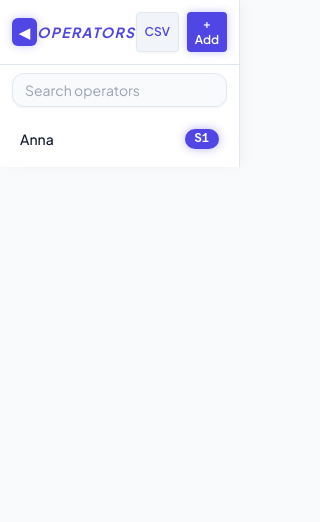
OperatorPanel › shows certification checkboxes in expanded view
Step 1. Click the text "Anna" → (37, 139), box [20,130,54,148]
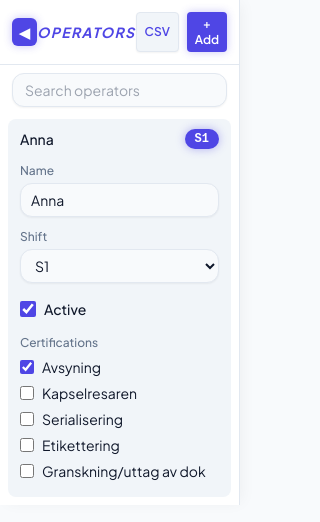
Result: the text "Avsyning" is shown at [20,358,101,376]
Result: the text "Kapselresaren" is shown at [20,384,137,402]
Result: the text "Serialisering" is shown at [20,410,123,428]
